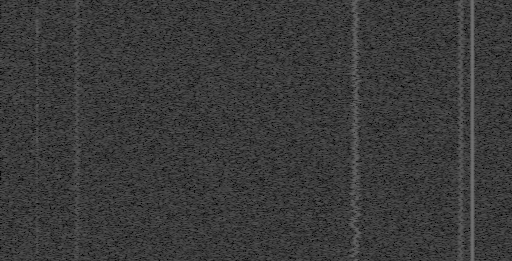wv_cw: (469, 0, 475, 261)
wv_lsb: (337, 6, 342, 61), (337, 186, 341, 208), (337, 96, 341, 114), (337, 118, 341, 133), (337, 249, 341, 261), (337, 78, 341, 88), (337, 66, 341, 76), (337, 134, 341, 142), (337, 159, 341, 167), (337, 234, 341, 241), (337, 223, 341, 230), (337, 89, 341, 95), (338, 177, 341, 185), (338, 147, 341, 154), (469, 147, 474, 151), (337, 218, 341, 222), (338, 242, 341, 246), (337, 62, 341, 65), (338, 168, 341, 172), (338, 213, 341, 216)
wv_usb: (35, 5, 40, 165), (35, 215, 40, 261), (35, 166, 39, 192), (35, 200, 40, 214), (35, 193, 39, 199)
wv_wbfm: (347, 0, 364, 257), (456, 0, 466, 261), (72, 0, 82, 244), (72, 246, 82, 261)
